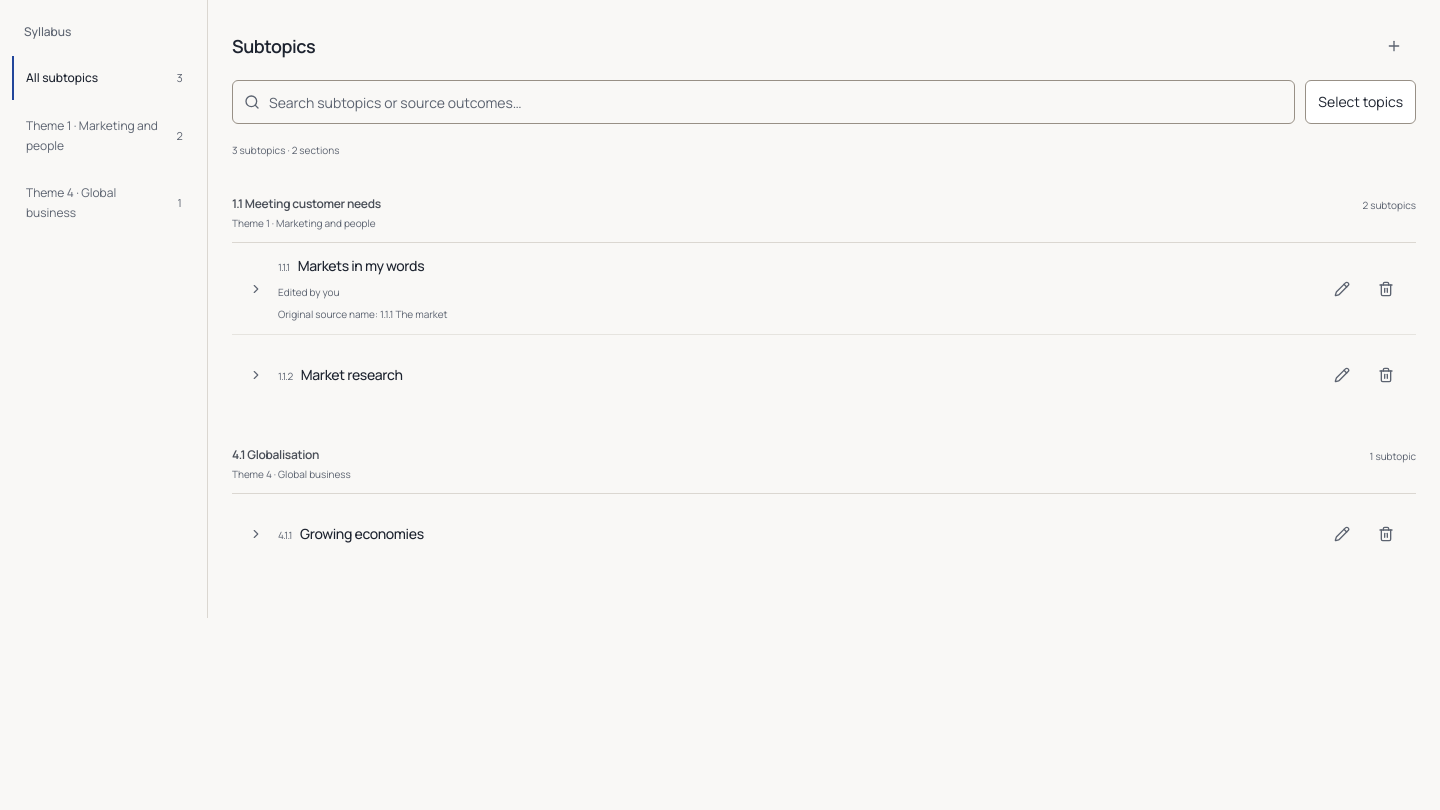
it: ProfileSubtopicEditor › searches Globalisation across aliases, codes, original names, full outcomes, notes and paths without mutations
Type "Globalisation" into the search field at (764, 102), box [232,80,1295,124]
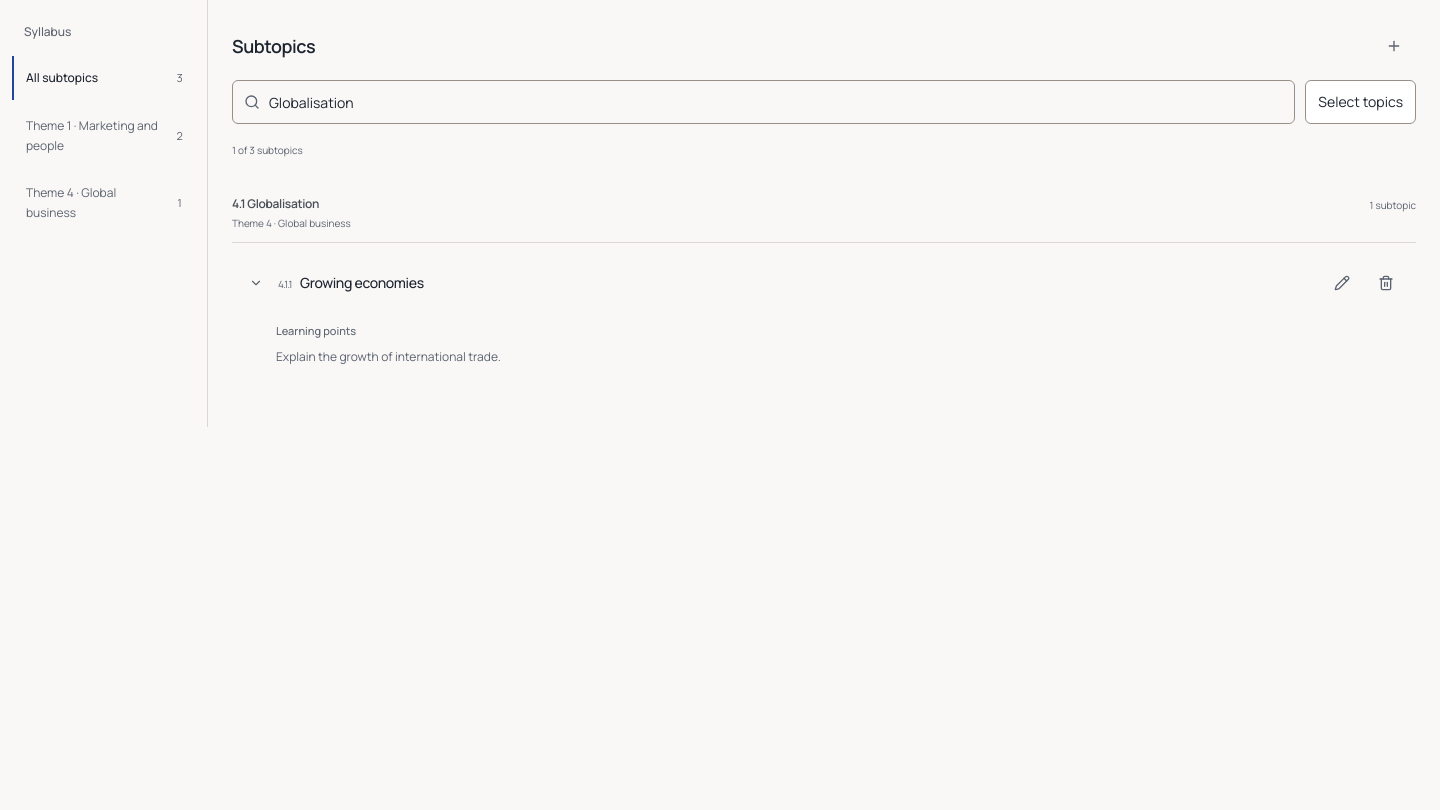
Expected: the element "Growing economies" is shown, [232,243,1416,382]
Now the message reads "1 of 3 subtopics", box [232,143,303,157]
